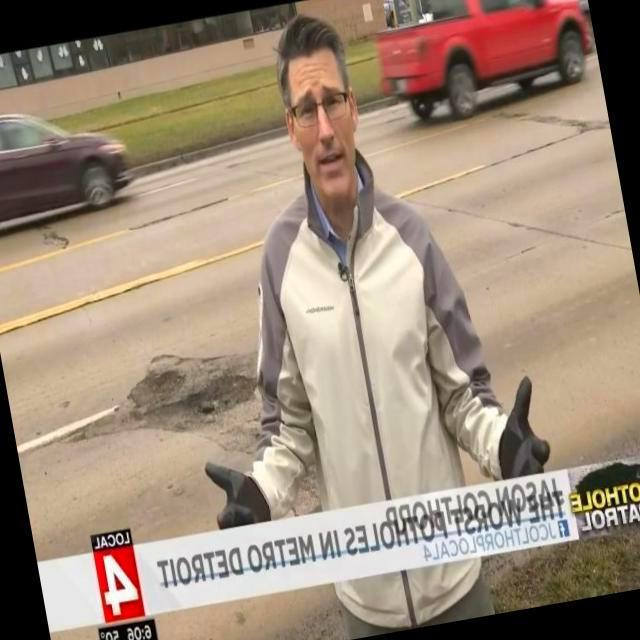Pothole: (78, 354, 255, 448)
